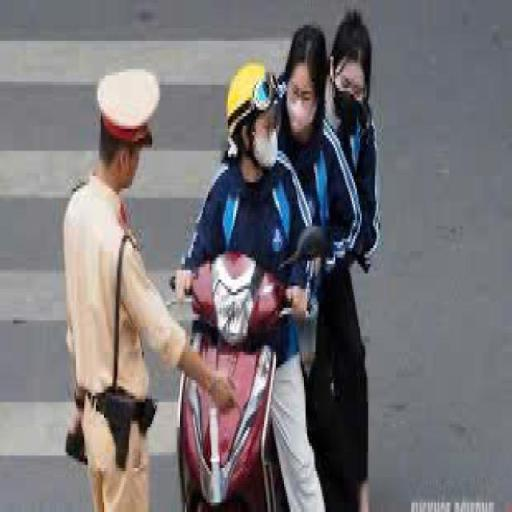with helmet: (220, 61, 284, 134)
